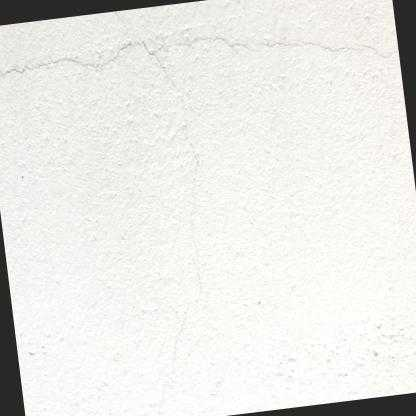crack: (0, 10, 399, 416)
